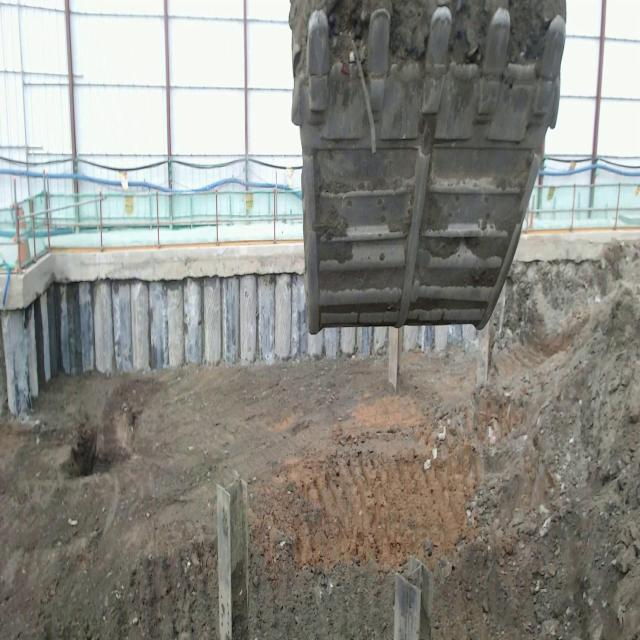white-sand: (0, 241, 640, 639), (289, 0, 566, 76)
